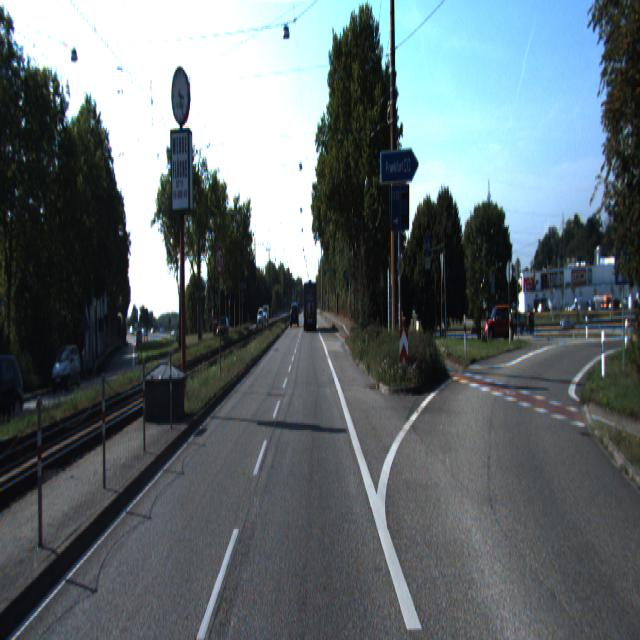Car: (0, 343, 34, 434), (51, 344, 82, 393), (482, 304, 516, 341), (304, 281, 318, 332)
